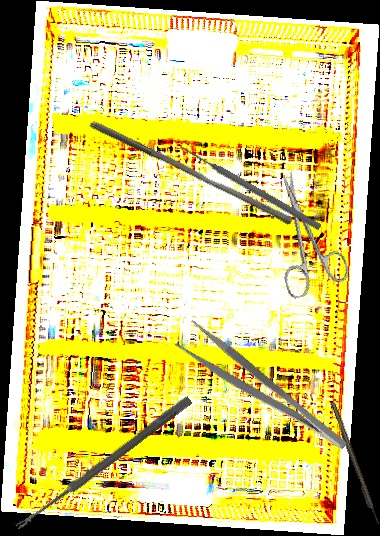Dressing Forceps: (172, 316, 352, 468)
Hook Surgical: (330, 401, 380, 526)
Iris Scissors: (258, 163, 352, 301)
Pusher: (84, 118, 298, 227), (178, 142, 323, 232)
Surgical Spoon: (14, 394, 193, 533)
